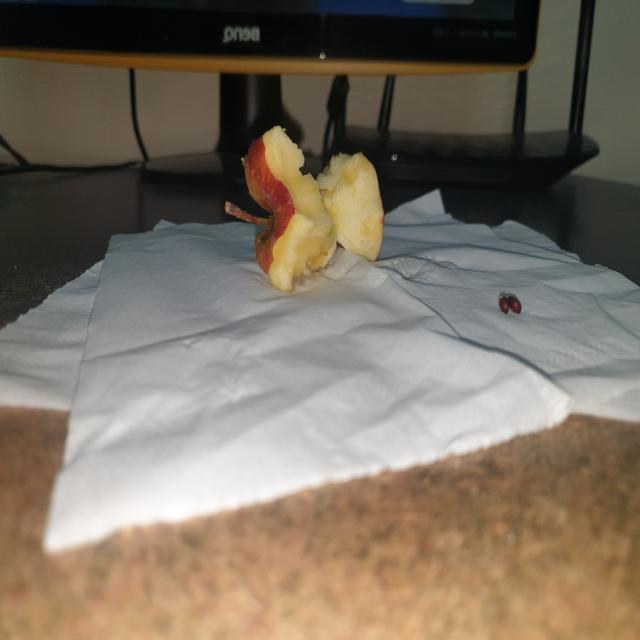apple: (210, 118, 398, 292)
